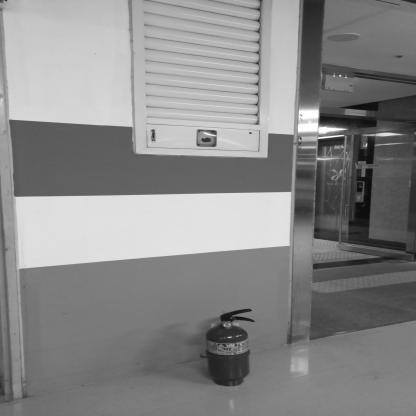FE: (209, 309, 254, 388)
